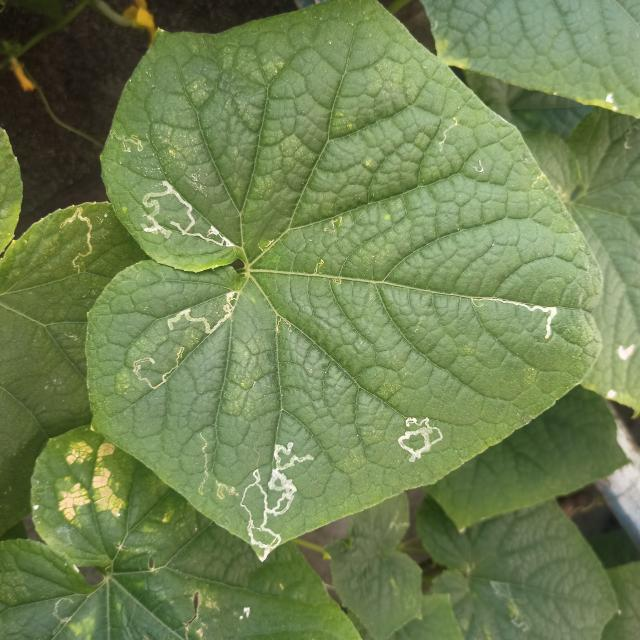disease_cucumber: (58, 437, 128, 528)
